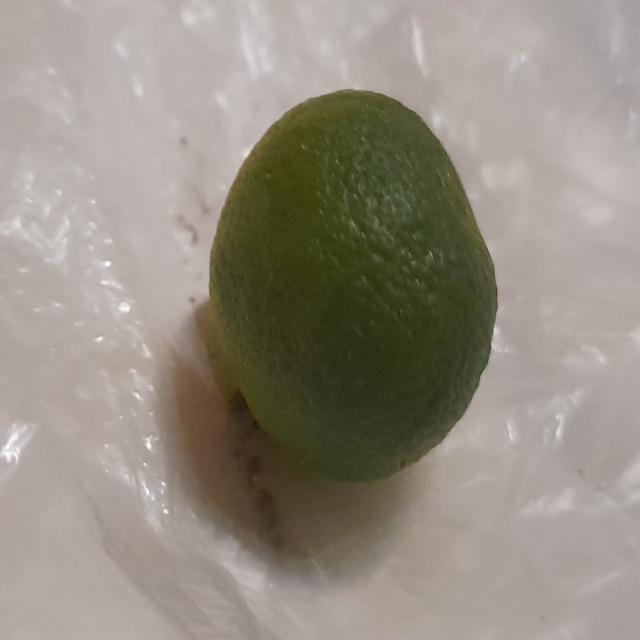heathy: (206, 82, 510, 488)
